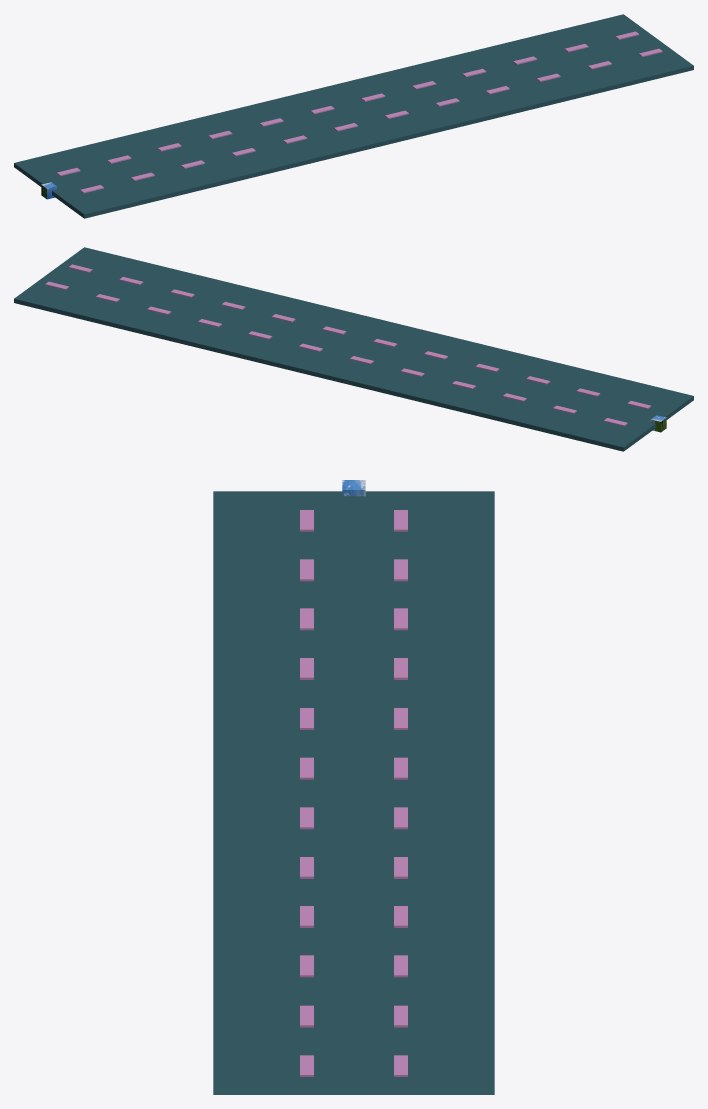
File: weg1.fbx_Scene.fbx
3 views of the same model, one above another, from view 1: azimuth 30°, elevation 25°; view 2: azimuth 150°, elevation 25°; view 3: azimuth 270°, elevation 25° (orthographic). The views are drawn at different scales.
Parts seen in each view (by area): view 1: Cube.001; view 2: Cube.001; view 3: Cube.001.
Part boxes in pixels (box(x1,y1,x2,y2)): Cube.001: box(14, 14, 693, 218); Cube.001: box(14, 247, 693, 451); Cube.001: box(213, 491, 494, 1094).
Bounding box in the file's own units: 6050 × 100 × 1200.
